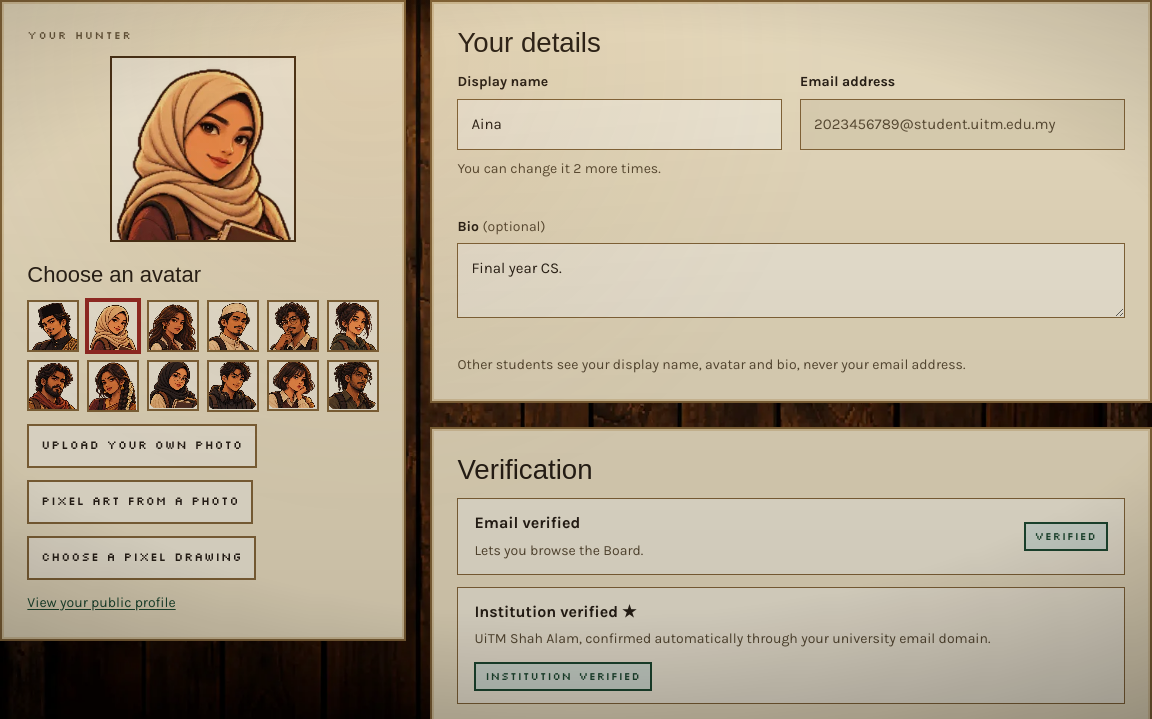
marks the chosen drawn avatar and saves a new one
Click the button named "Drawn avatar 5": click(293, 326) [267,300,319,352]
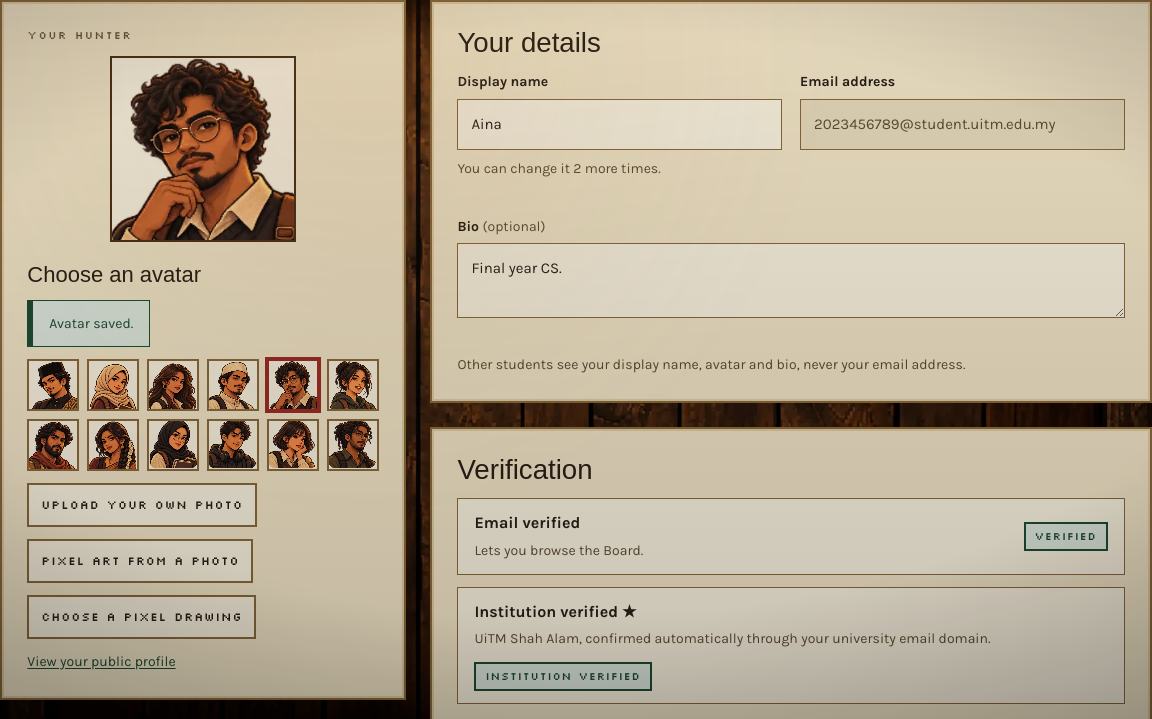
Expected: the message reads "Avatar saved.", [49,315,133,332]
